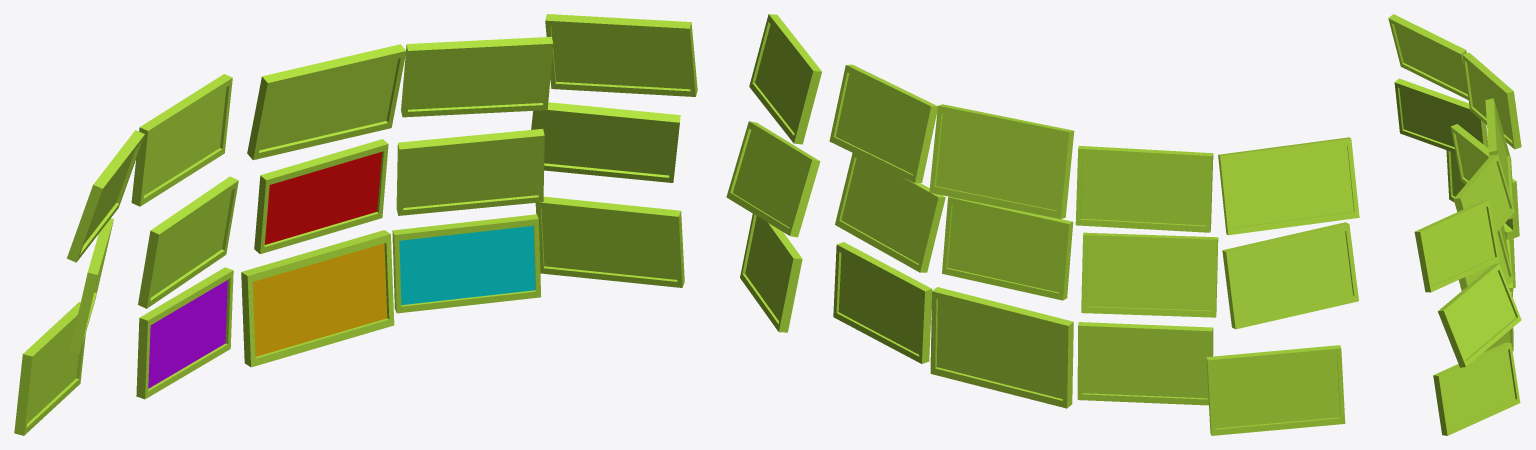
Rendered from ScreensFixed.fbx.
3 views of the same model, side by side, from view 1: azimuth 30°, elevation 25°; view 2: azimuth 150°, elevation 25°; view 3: azimuth 270°, elevation 25° (orthographic). The views are drawn at different scales.
Visible parts, largest first — view 1: Screen_SR_GEO_13, Screen_SR_GEO_14, Screen_SR_GEO_15, Screen_SR_GEO_03, Screen_SR_GEO_05, Screen_SR_GEO_07, Screen_SR_GEO_04, Screen_SR_GEO_08, Screen_SR_GEO_06, Frame_SR_GEO_12, Screen_SR_GEO_12, Frame_SR_GEO_03 (+17 smaller); view 2: Screen_SR_GEO_03, Screen_SR_GEO_13, Screen_SR_GEO_01, Screen_SR_GEO_09, Screen_SR_GEO_02, Screen_SR_GEO_11, Screen_SR_GEO_12, Screen_SR_GEO_10, Screen_SR_GEO_08, Screen_SR_GEO_07, Screen_SR_GEO_04, Screen_SR_GEO_14 (+18 smaller); view 3: Screen_SR_GEO_15, Screen_SR_GEO_05, Screen_SR_GEO_06, Screen_SR_GEO_10, Screen_SR_GEO_01, Frame_SR_GEO_05, Frame_SR_GEO_13, Frame_SR_GEO_06, Frame_SR_GEO_09, Frame_SR_GEO_01, Frame_SR_GEO_02, Screen_SR_GEO_04 (+12 smaller).
Boxes of the visible parts, x1,y1,x2,y2 form: Screen_SR_GEO_13: (252,243,387,356); Screen_SR_GEO_14: (399,226,535,305); Screen_SR_GEO_15: (541,208,677,279); Screen_SR_GEO_03: (259,59,398,150); Screen_SR_GEO_05: (551,26,690,89); Screen_SR_GEO_07: (403,141,539,207); Screen_SR_GEO_04: (408,49,547,109); Screen_SR_GEO_08: (265,152,381,244); Screen_SR_GEO_06: (536,114,674,175); Frame_SR_GEO_12: (241,230,394,367); Screen_SR_GEO_12: (148,280,227,388); Frame_SR_GEO_03: (247,44,406,160); Screen_SR_GEO_03: (936,114,1064,210); Screen_SR_GEO_13: (936,299,1063,398); Screen_SR_GEO_01: (1225,145,1353,227); Screen_SR_GEO_09: (1086,241,1213,310); Screen_SR_GEO_02: (1080,155,1207,225); Screen_SR_GEO_11: (1212,355,1339,428); Screen_SR_GEO_12: (1082,332,1207,398); Screen_SR_GEO_10: (1231,231,1352,321); Screen_SR_GEO_08: (947,204,1064,292); Screen_SR_GEO_07: (841,158,933,263); Screen_SR_GEO_04: (836,73,926,174); Screen_SR_GEO_14: (838,253,921,354); Screen_SR_GEO_15: (1442,350,1515,428); Screen_SR_GEO_05: (1423,207,1494,285); Screen_SR_GEO_06: (1447,271,1515,359); Screen_SR_GEO_10: (1399,88,1480,147); Screen_SR_GEO_01: (1394,24,1467,94); Frame_SR_GEO_05: (1414,200,1499,292); Frame_SR_GEO_13: (1433,342,1520,435); Frame_SR_GEO_06: (1438,264,1521,367); Frame_SR_GEO_09: (1394,78,1488,153); Frame_SR_GEO_01: (1388,14,1468,99); Frame_SR_GEO_02: (1462,52,1521,149); Screen_SR_GEO_04: (1463,162,1509,226).
Size of the model in its own units: 13.9 by 5.83 by 3.34.
